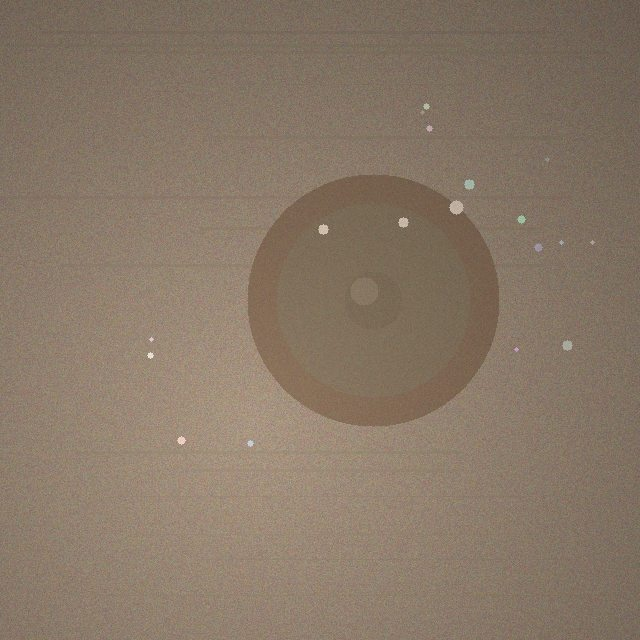overburn: (247, 174, 499, 426)
